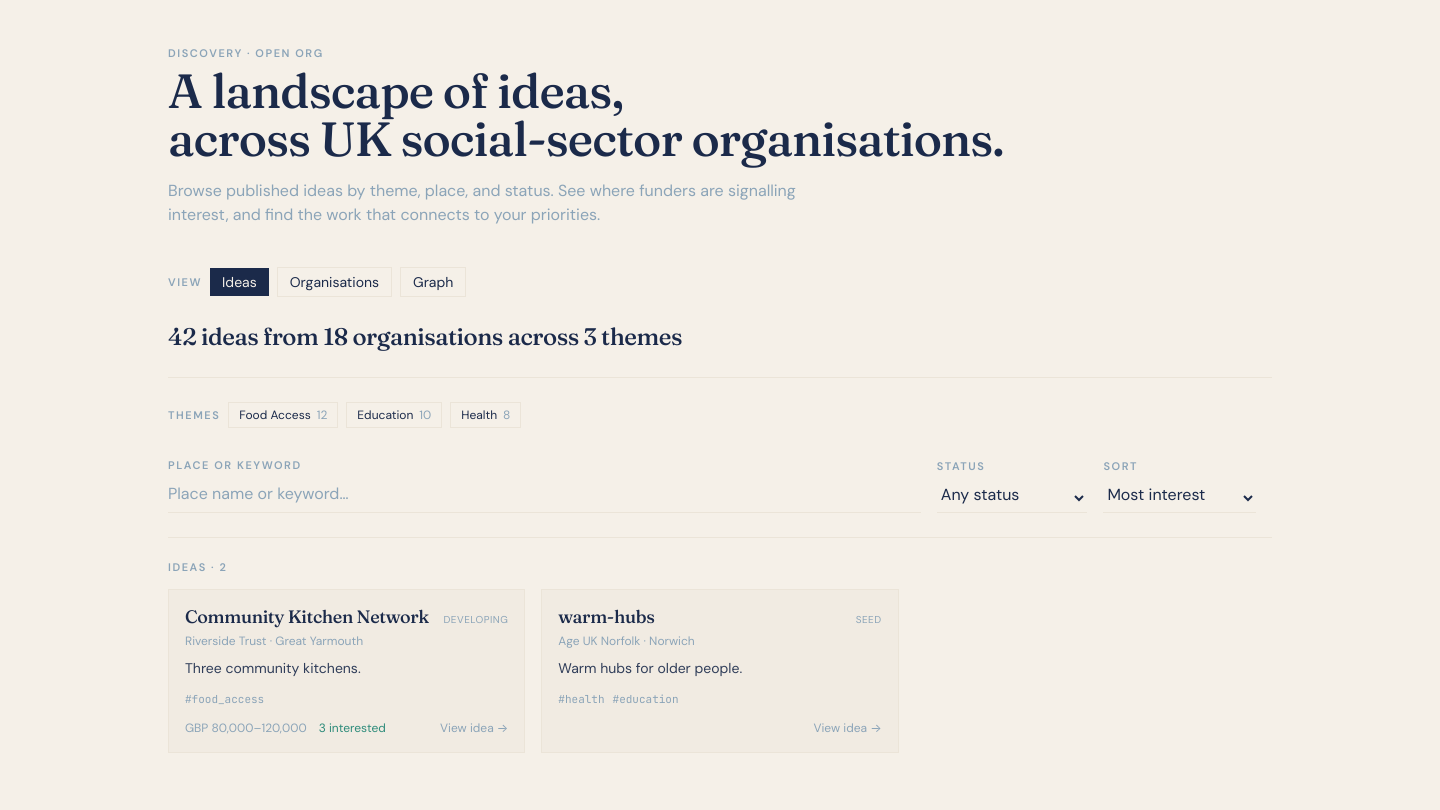
Discover page — ideas-first › switching to Organisations view hides the ideas landscape
Click the button "Organisations". click: [334, 282]
box: left=277, top=267, right=392, bottom=297
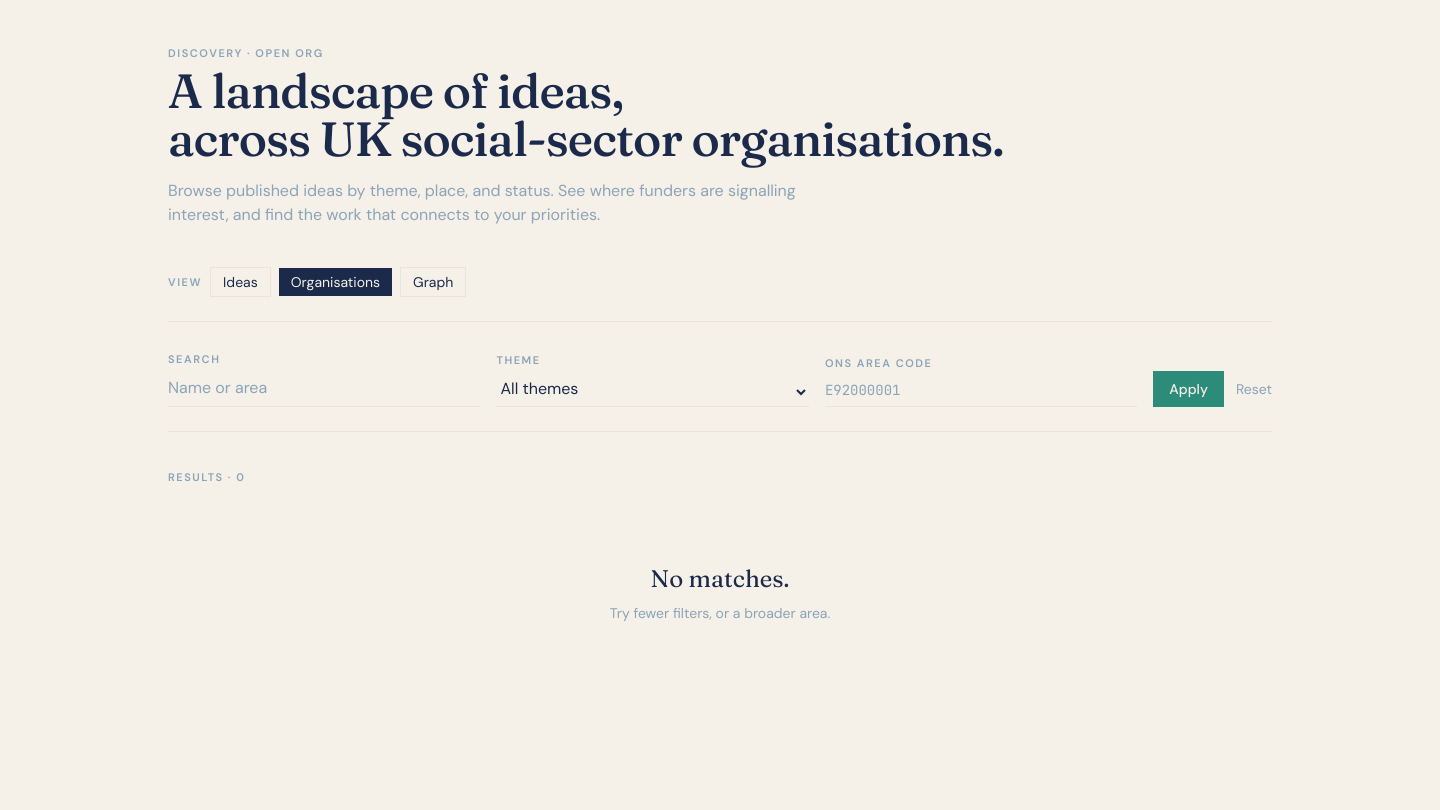
Expected: the element with test id "ideas-landscape" is gone
